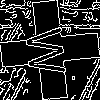W: (25, 25, 75, 77)
